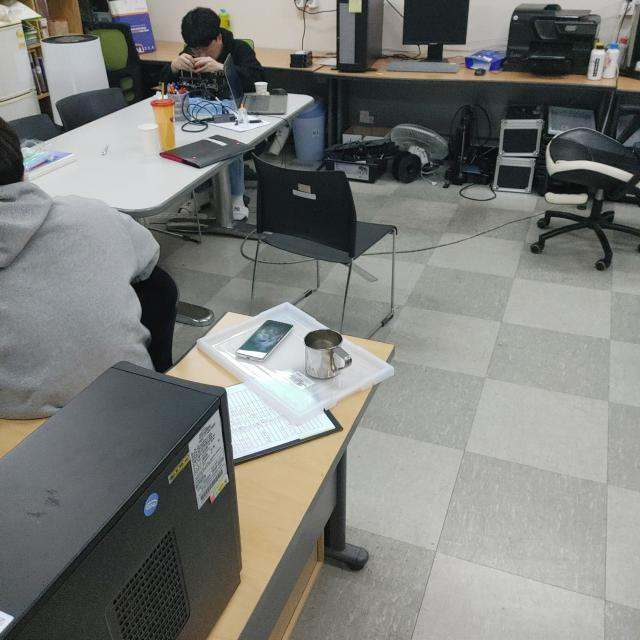cup: (303, 326, 351, 381)
phone: (239, 317, 292, 360)
